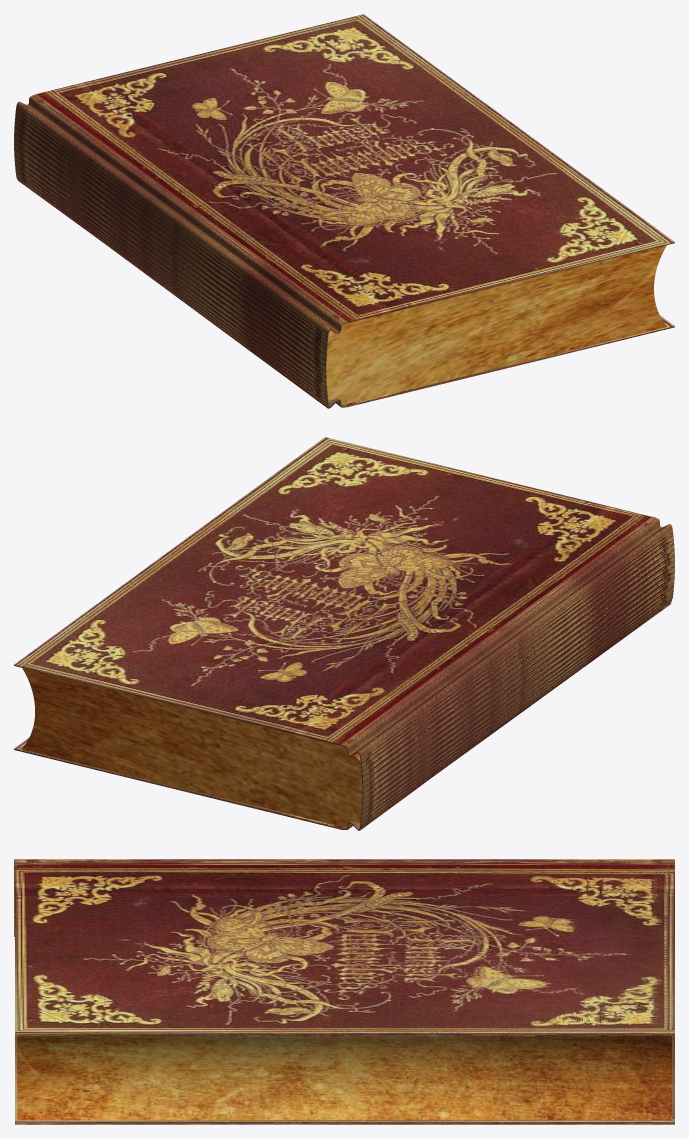
File: Libro2.fbx
The picture shows the model from 3 angles, top to bottom: view 1: azimuth 30°, elevation 25°; view 2: azimuth 150°, elevation 25°; view 3: azimuth 270°, elevation 25°; orthographic projection. The views are drawn at different scales.
Parts seen in each view (by area): view 1: Shape002; view 2: Shape002; view 3: Shape002.
Boxes of the visible parts, bbox=[...] form: Shape002: bbox=[14, 14, 674, 408]; Shape002: bbox=[14, 437, 674, 830]; Shape002: bbox=[14, 859, 674, 1124].
Size of the model in its own units: 0.2324 by 0.0542 by 0.3589.
Materials: 2 (2 with a texture image).
